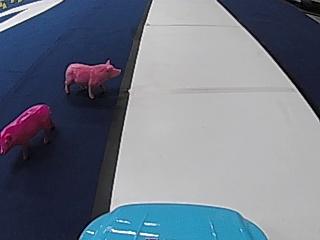pig: (1, 100, 55, 160), (62, 56, 120, 99)
